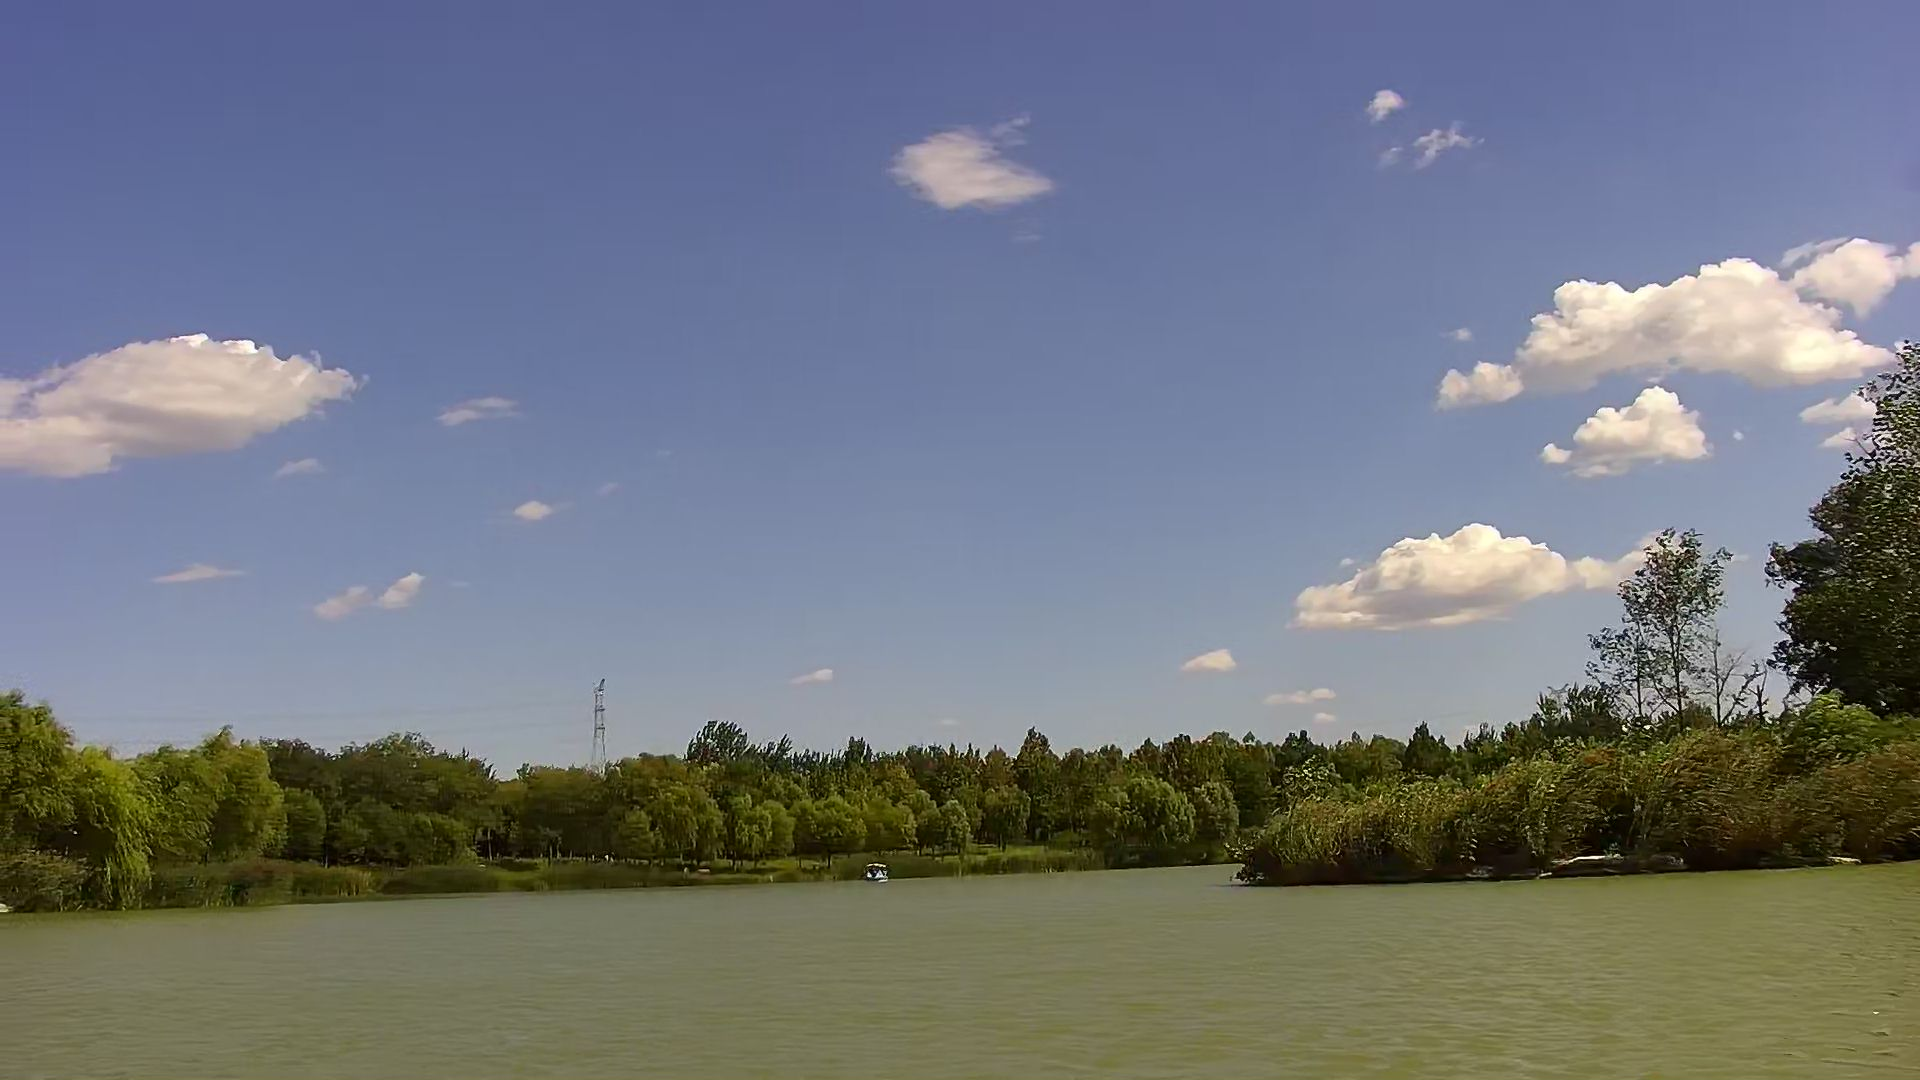boat: (861, 858, 891, 884)
